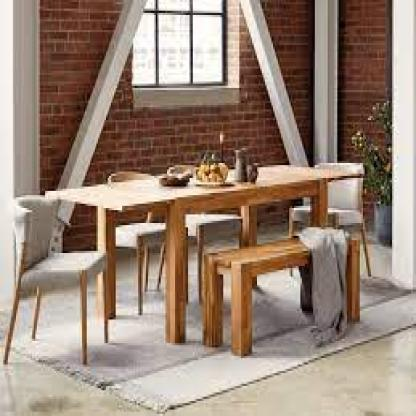Dining Table: (9, 137, 378, 365)
